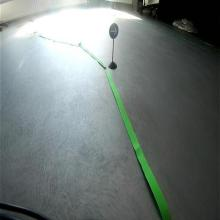right: (109, 22, 119, 38)
